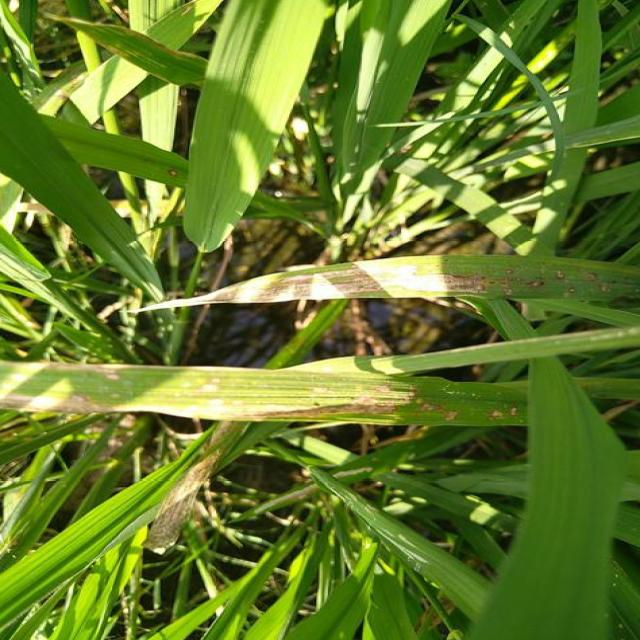Leaf Streak: (0, 360, 527, 426), (128, 255, 640, 314), (143, 421, 235, 556), (46, 16, 208, 89)
